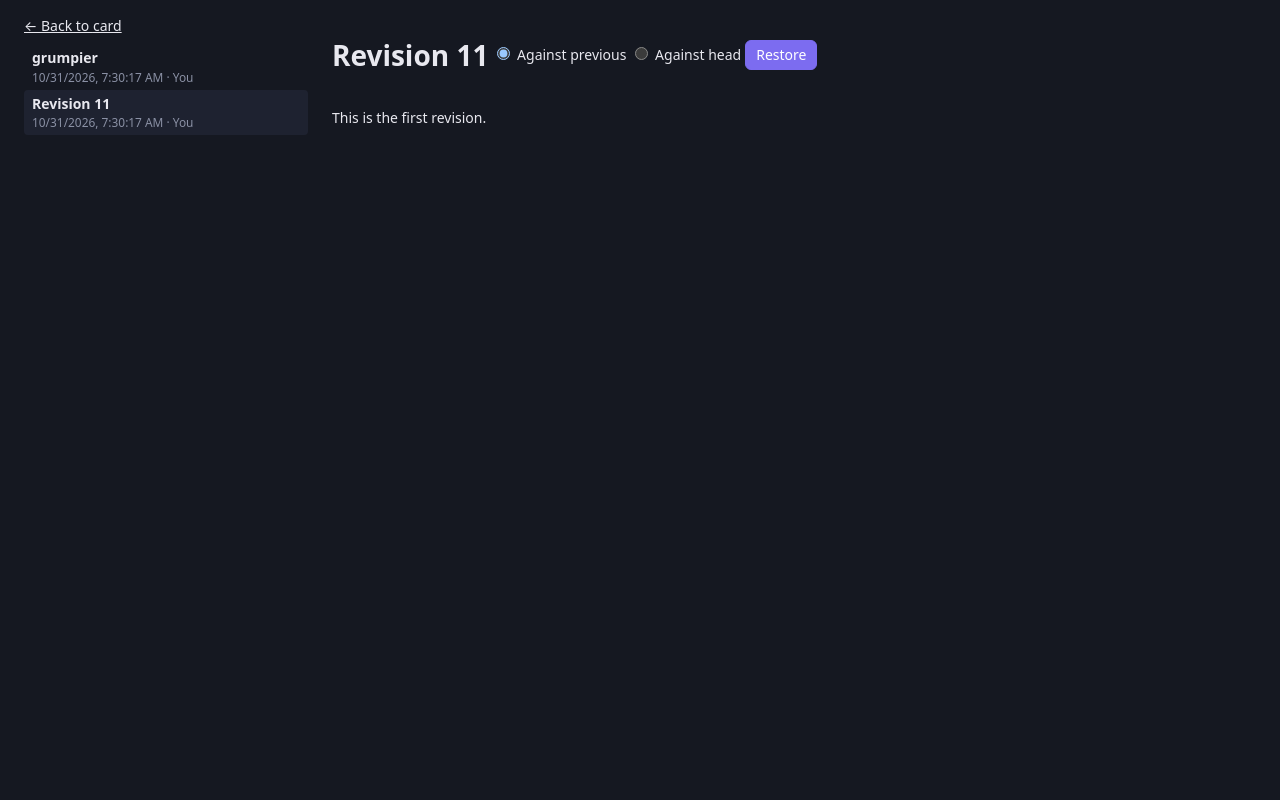
it: a restore on a stale head says so and refetches the revisions
Click the button "Restore": (781, 55) 745,40 -> 817,70
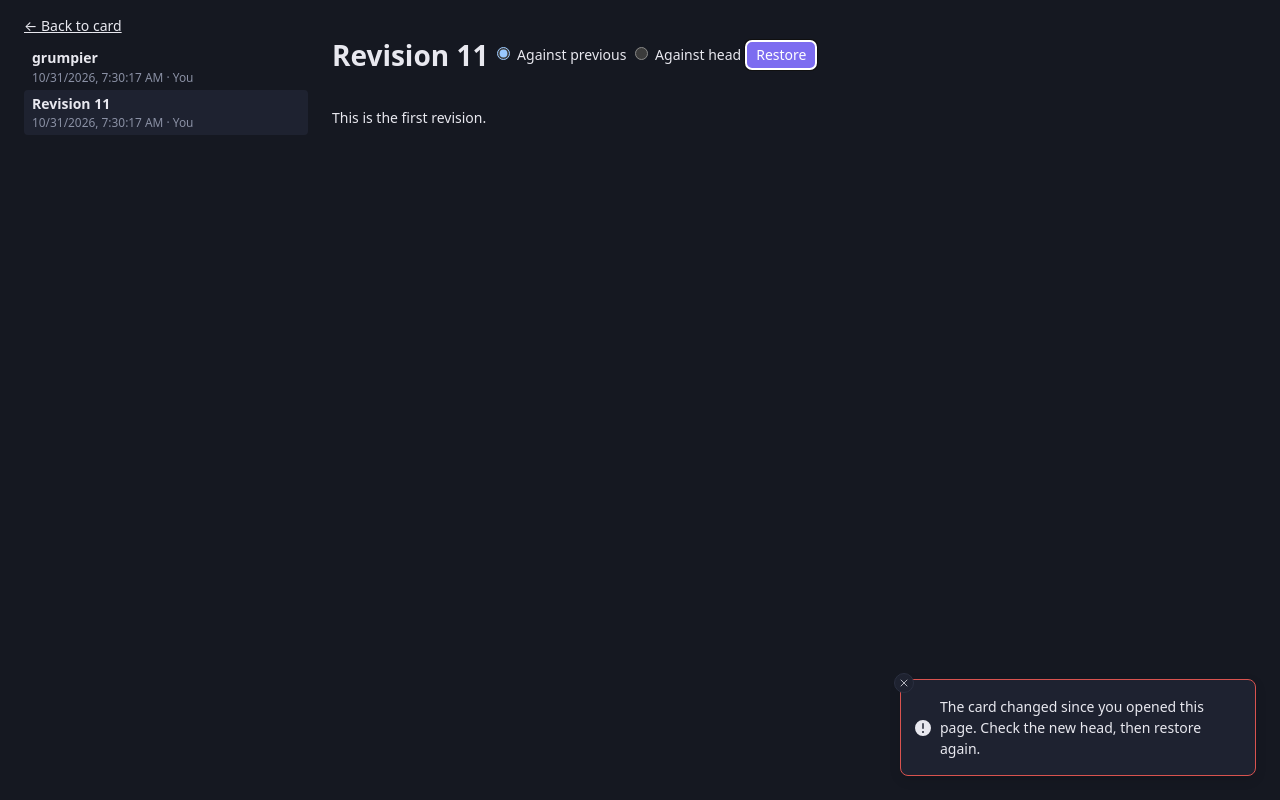
Result: the text "changed since you opened this page" is shown at 940,697 -> 1204,758
